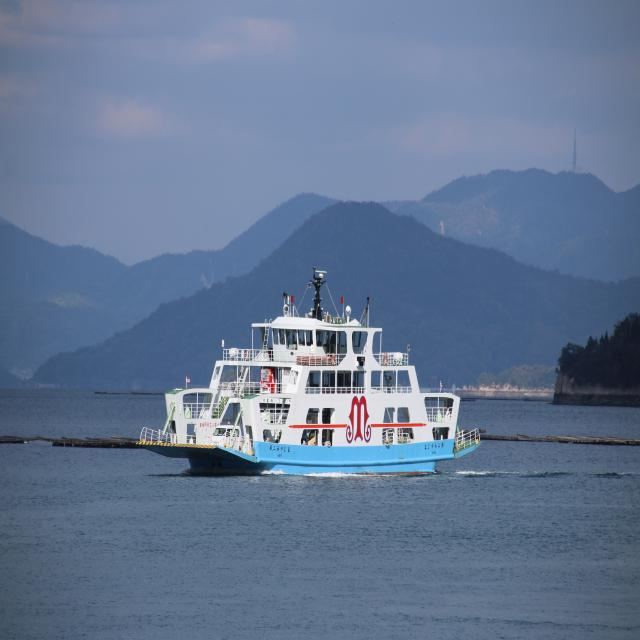passenger ship: (116, 275, 486, 476)
